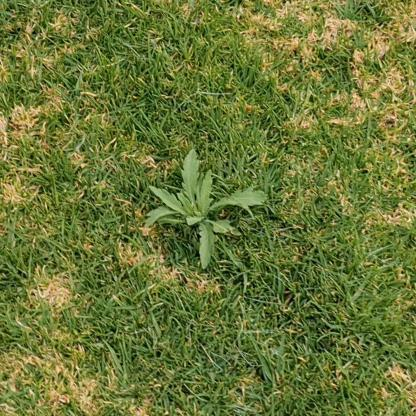Weeds: (145, 149, 268, 270)
